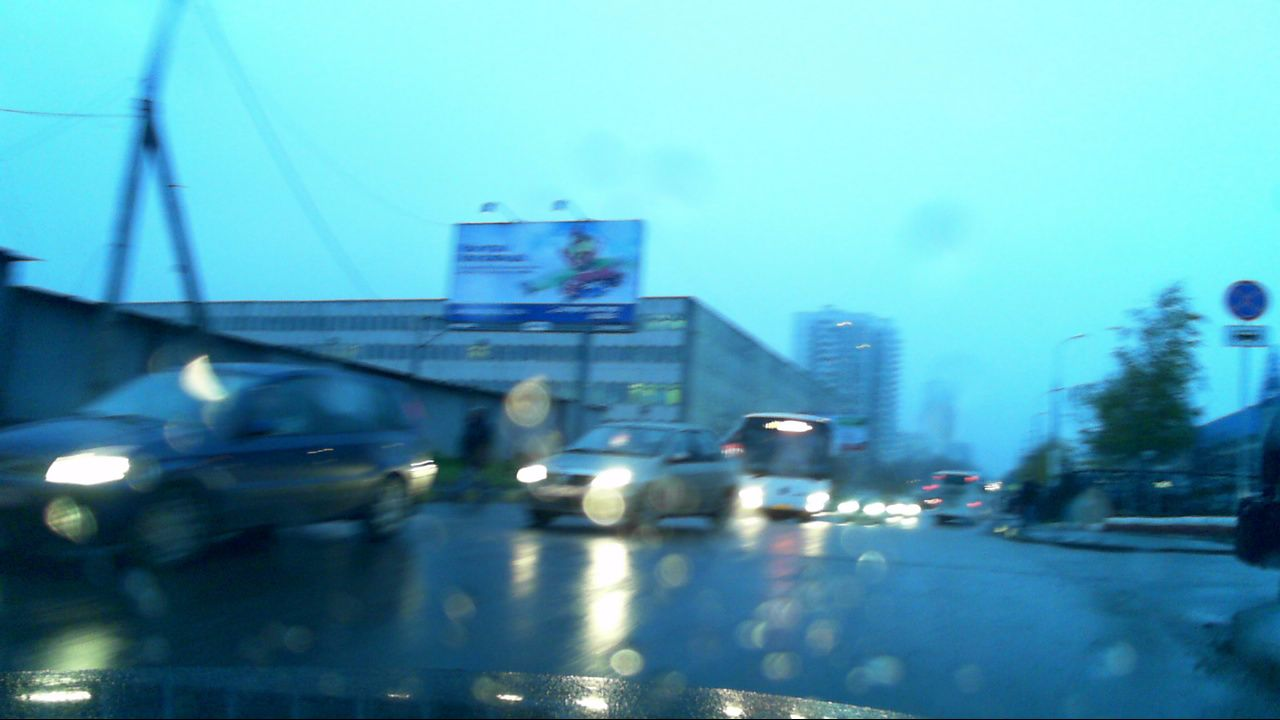No Parking: (1223, 280, 1267, 322)
